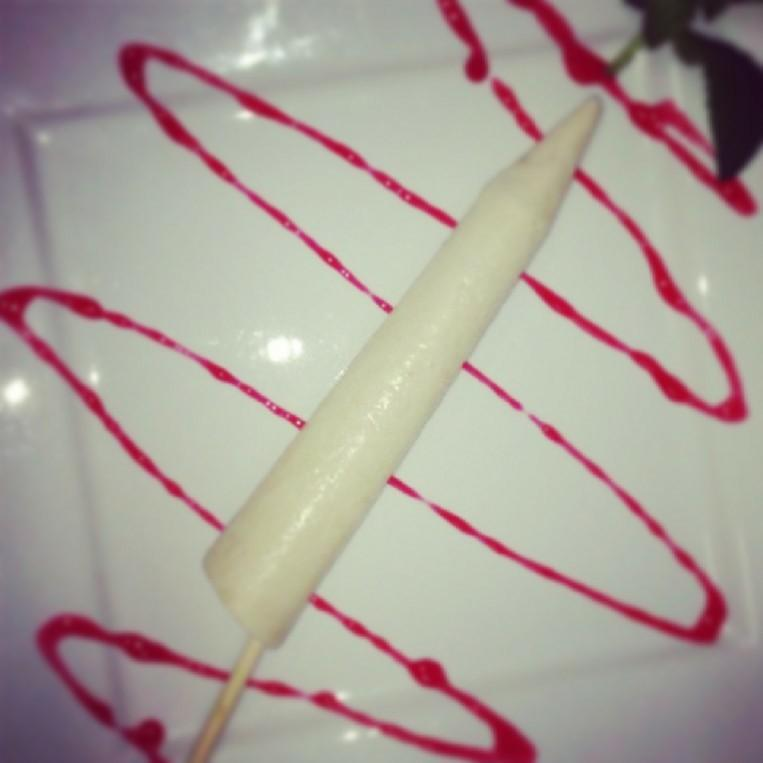Kulfi: (200, 88, 604, 655)
